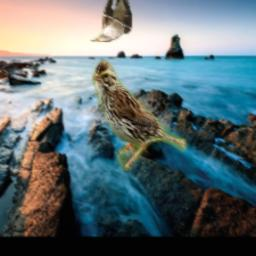Cuckoo: (89, 0, 132, 43)
Sparrow: (93, 56, 188, 171)
